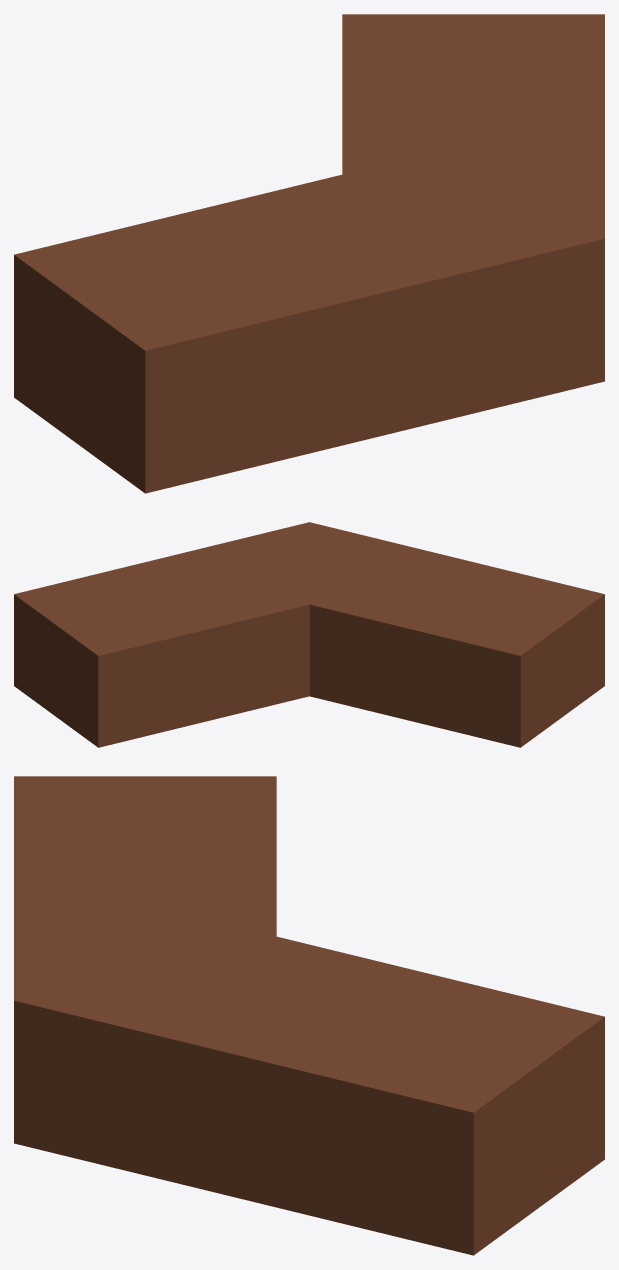
File: wooden_wall1.glb
The picture shows the model from 3 angles, top to bottom: view 1: azimuth 30°, elevation 25°; view 2: azimuth 150°, elevation 25°; view 3: azimuth 270°, elevation 25°; orthographic projection. The views are drawn at different scales.
Visible parts, largest first — view 1: WoodenWall3; view 2: WoodenWall3; view 3: WoodenWall3.
Boxes of the visible parts, <box> form: WoodenWall3: <box>14,14,604,493</box>; WoodenWall3: <box>14,522,604,747</box>; WoodenWall3: <box>14,776,604,1255</box>.
Bounding box in the file's own units: 1.52 × 0.3 × 1.12.
Materials: 1 (1 with a texture image).
